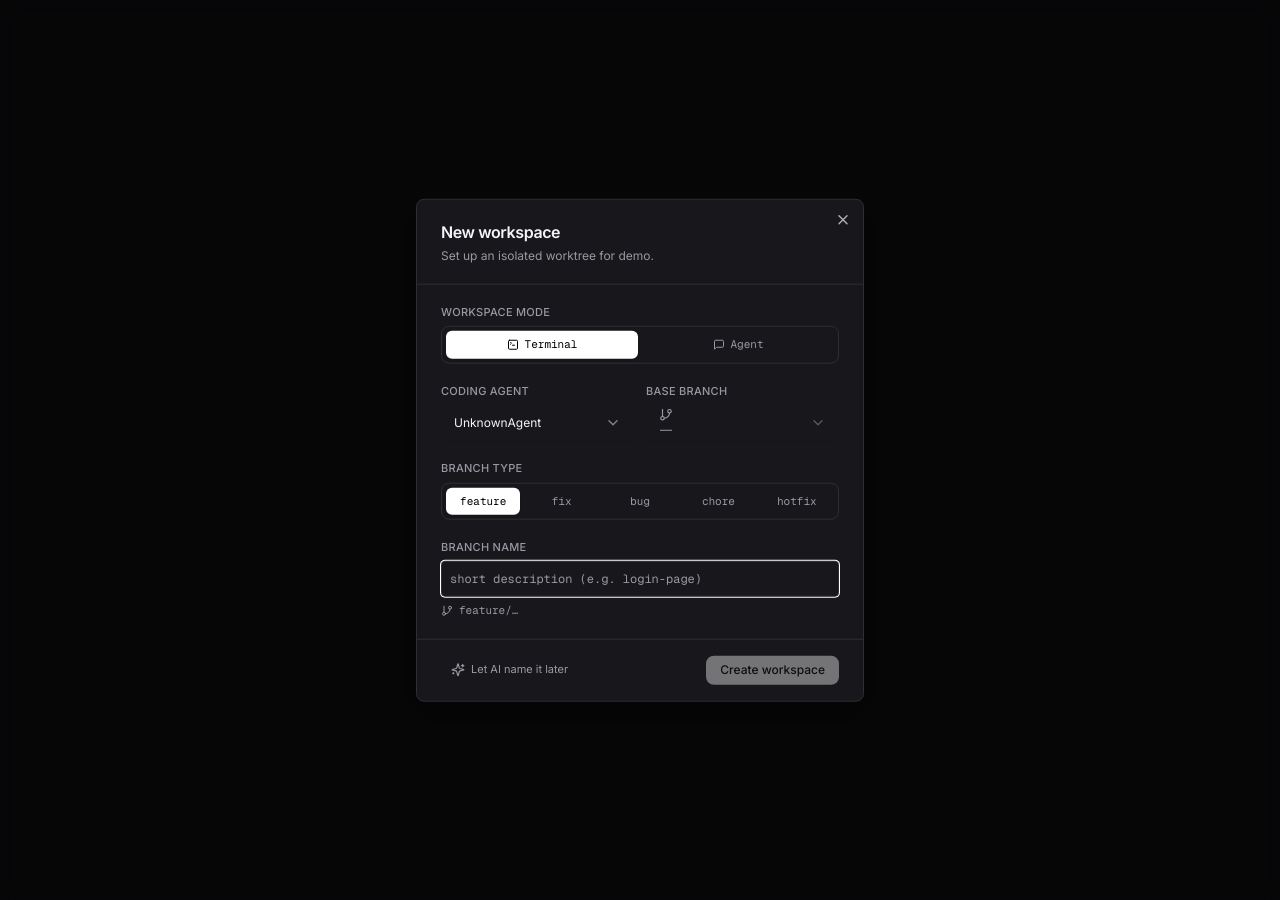
NewWorkspaceDialog — agent select › renders without an icon when the backend id is unrecognised
Click the dropdown with test id "agent-select" at (538, 423), box [441,405,634,441]
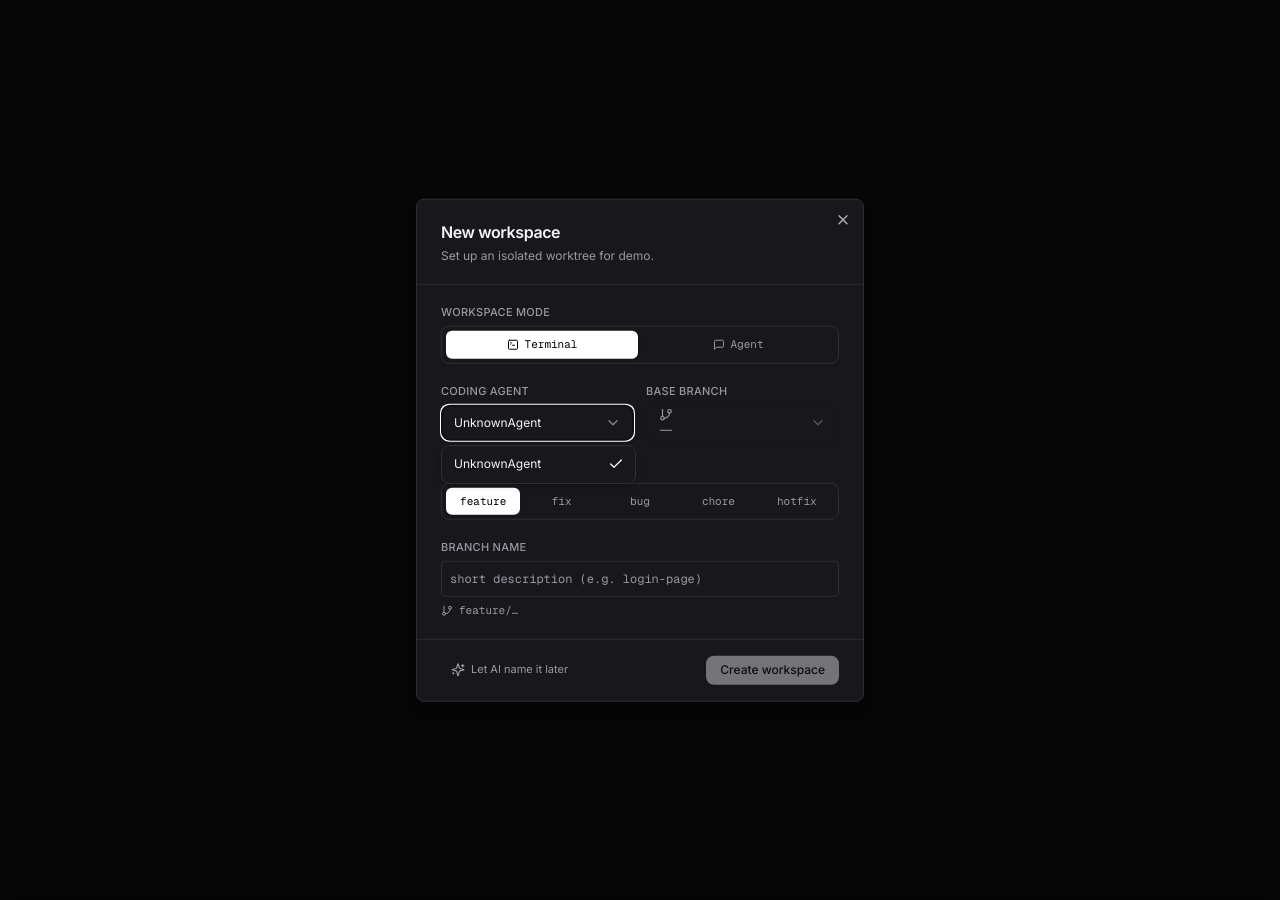
Result: the option "UnknownAgent" is shown at [454,456,624,472]
